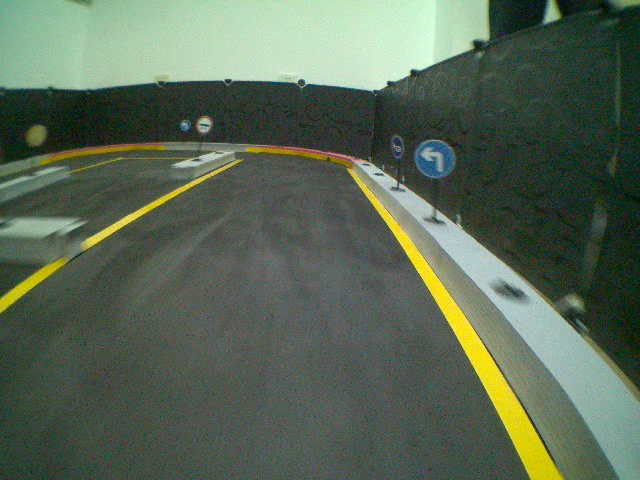Check: (193, 112, 218, 136)
horn: (390, 133, 407, 160)
turn: (414, 136, 457, 180)
